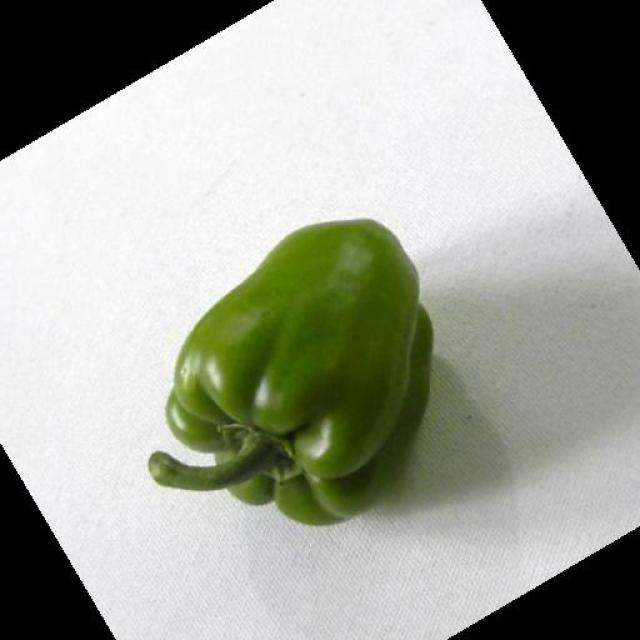Fresh_Capsicum: (118, 174, 424, 493)
